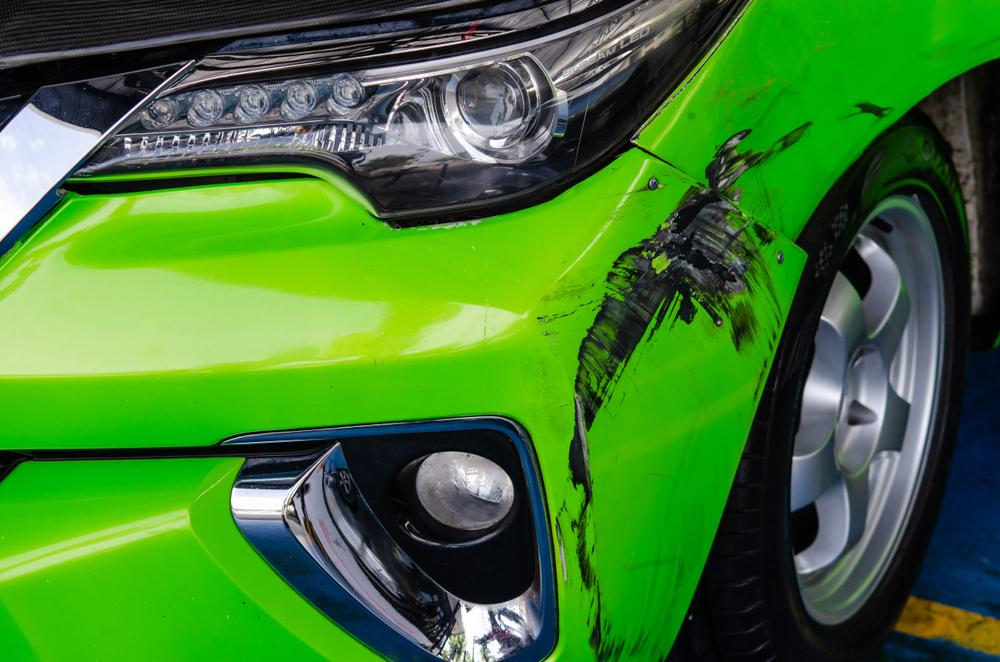scratch: (544, 182, 784, 662), (699, 97, 897, 232)
